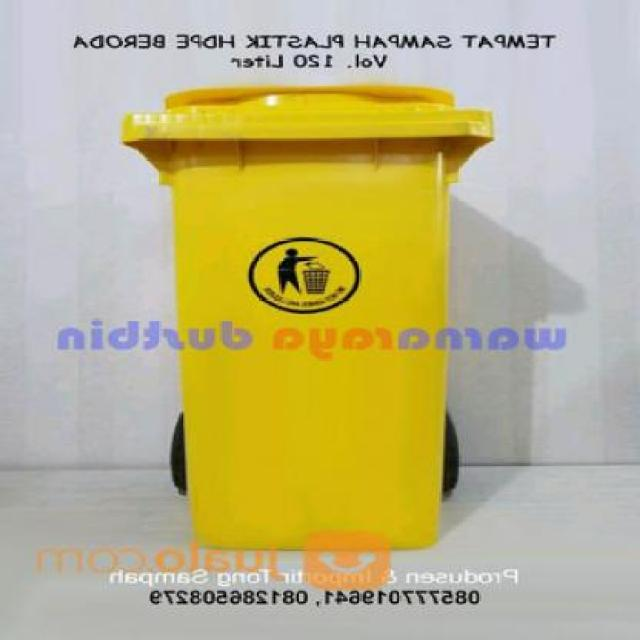garbage container: (100, 70, 512, 547)
